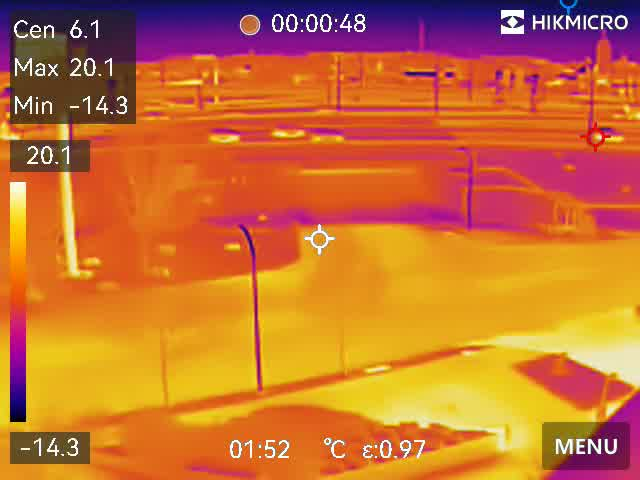vehicle: (207, 126, 244, 145), (312, 128, 349, 146), (589, 126, 625, 143), (269, 124, 305, 137)
